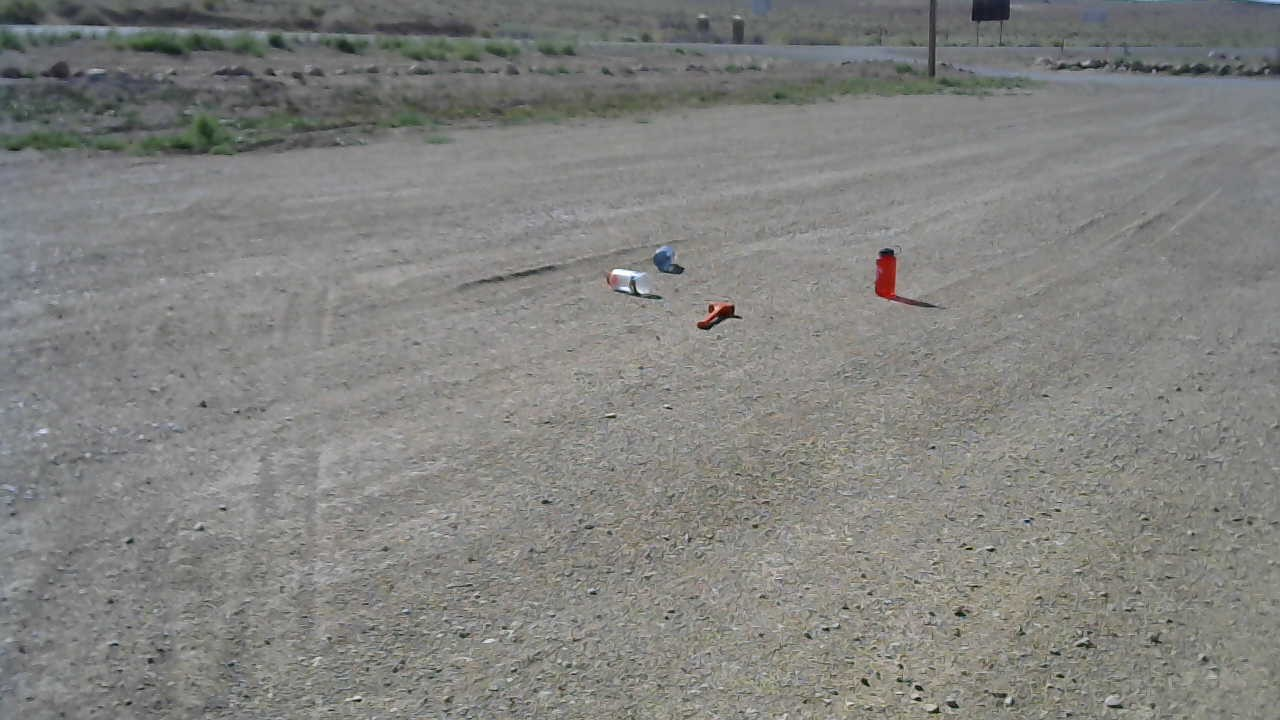bottle: (604, 266, 655, 299), (874, 243, 903, 300), (650, 246, 678, 272)
hammer: (696, 300, 736, 333)
